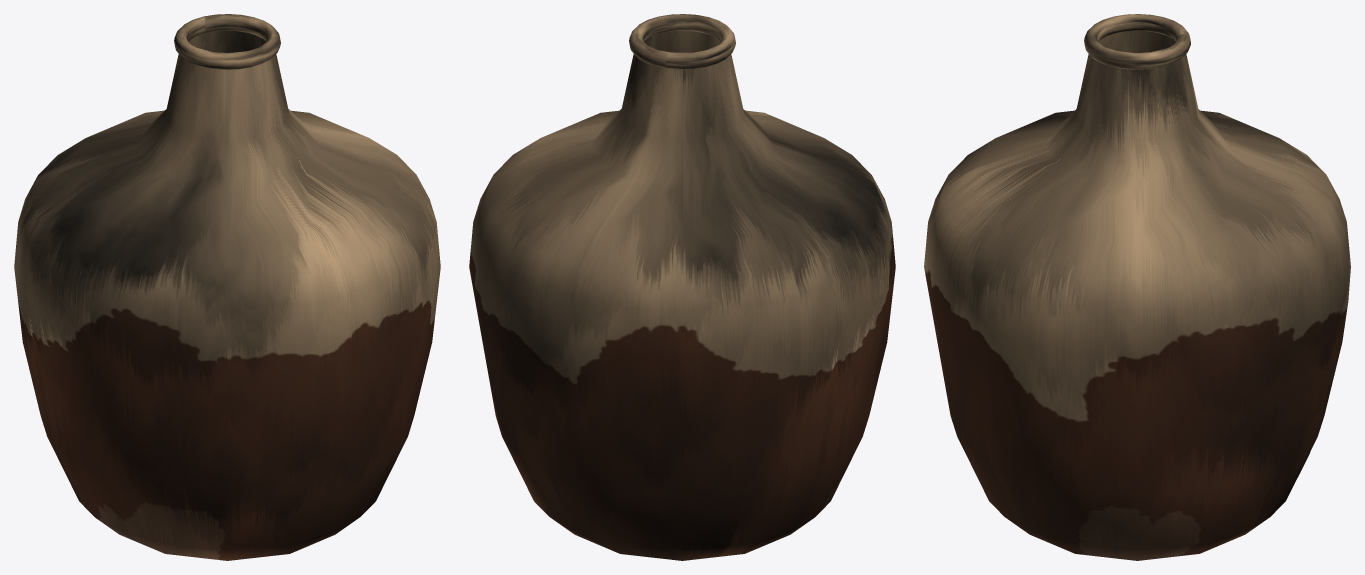
File: tsubo3.fbx
3 views of the same model, side by side, from view 1: azimuth 30°, elevation 25°; view 2: azimuth 150°, elevation 25°; view 3: azimuth 270°, elevation 25° (orthographic).
Parts seen in each view (by area): view 1: nurbsToPoly3, nurbsToPoly4; view 2: nurbsToPoly3, nurbsToPoly4; view 3: nurbsToPoly3, nurbsToPoly4.
Part boxes in pixels (left/top/right/bottom): nurbsToPoly3: left=14, top=30, right=440, bottom=560; nurbsToPoly4: left=174, top=14, right=280, bottom=69; nurbsToPoly3: left=469, top=30, right=895, bottom=560; nurbsToPoly4: left=629, top=14, right=735, bottom=69; nurbsToPoly3: left=924, top=30, right=1350, bottom=560; nurbsToPoly4: left=1084, top=14, right=1190, bottom=69.
Size of the model in its own units: 36.18 by 45.94 by 36.18.
